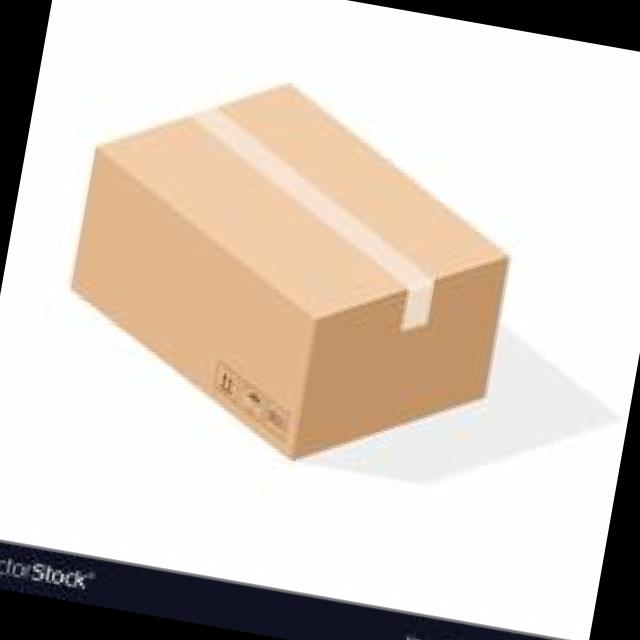box: (69, 81, 513, 461)
